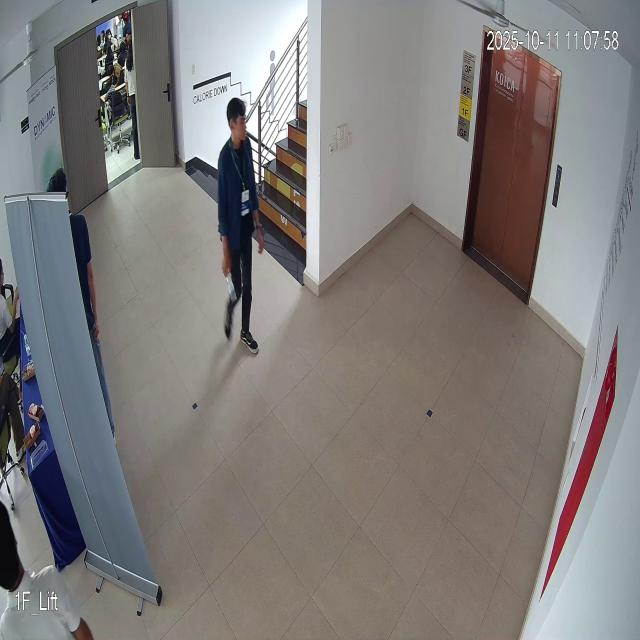face: (221, 91, 254, 151)
